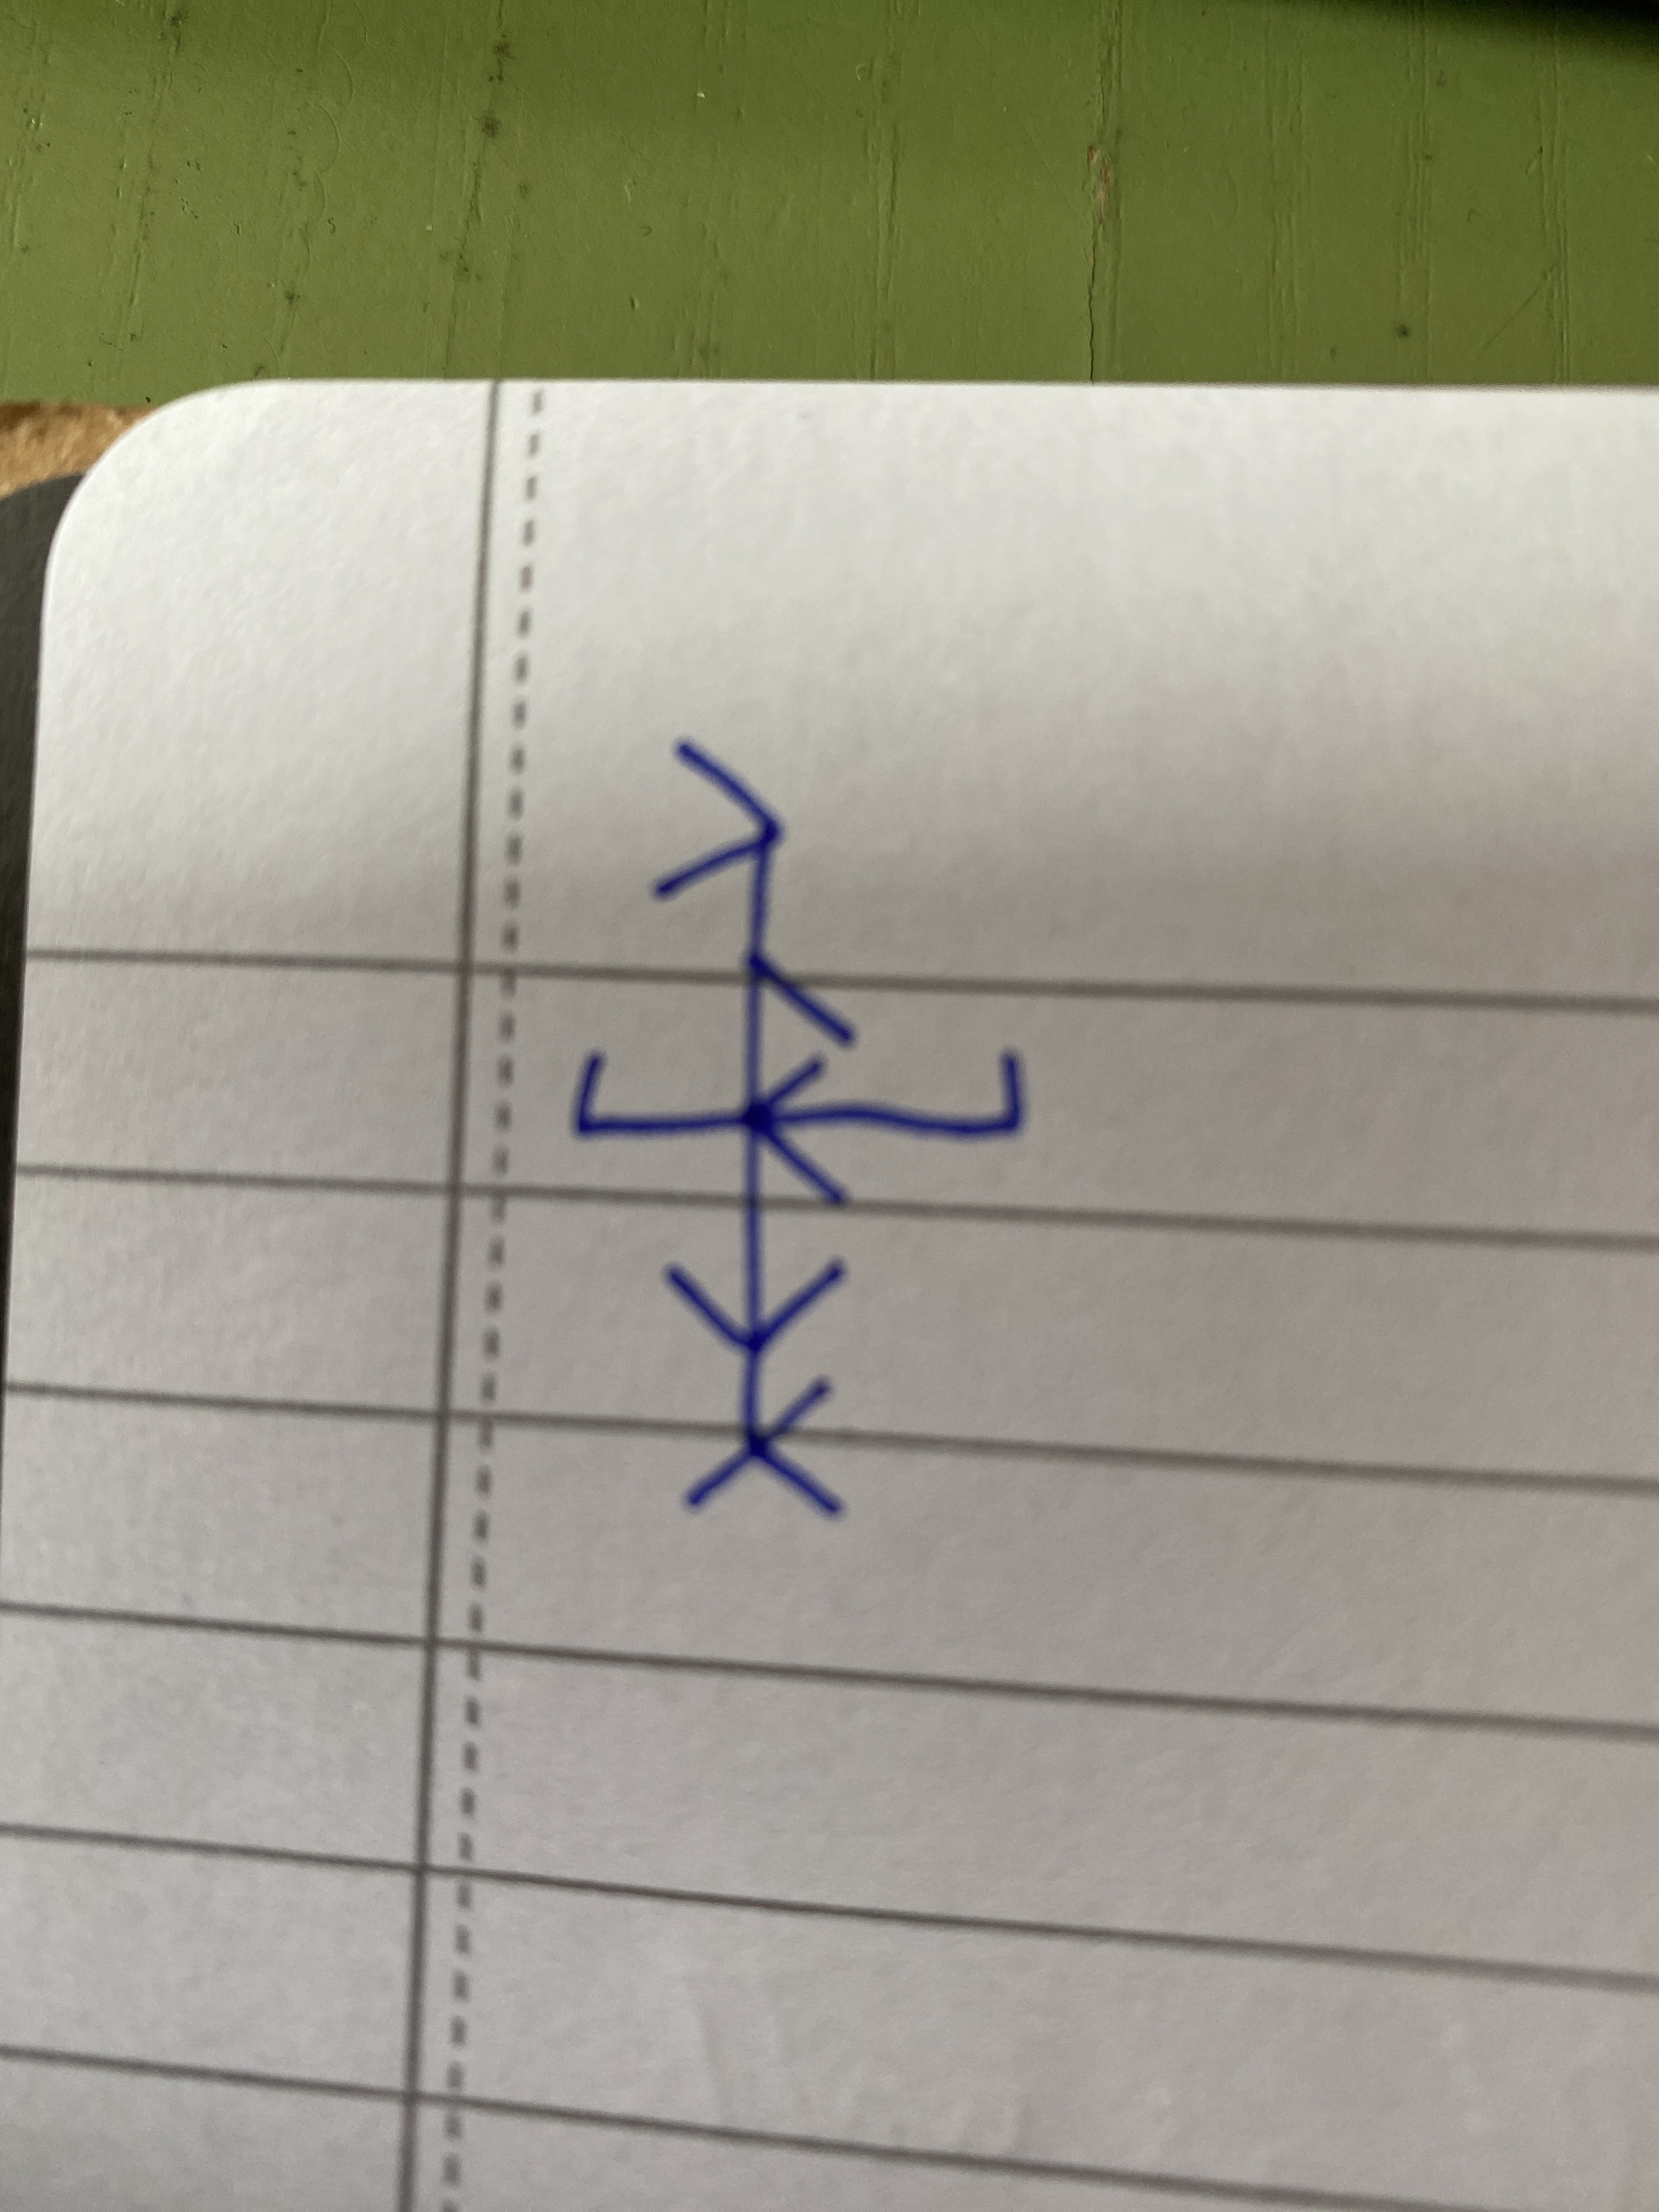Bar: (652, 738, 859, 1519)
Barcode: (568, 737, 1026, 1519)
End: (828, 1050, 1026, 1141)
Start: (570, 1050, 742, 1153)
